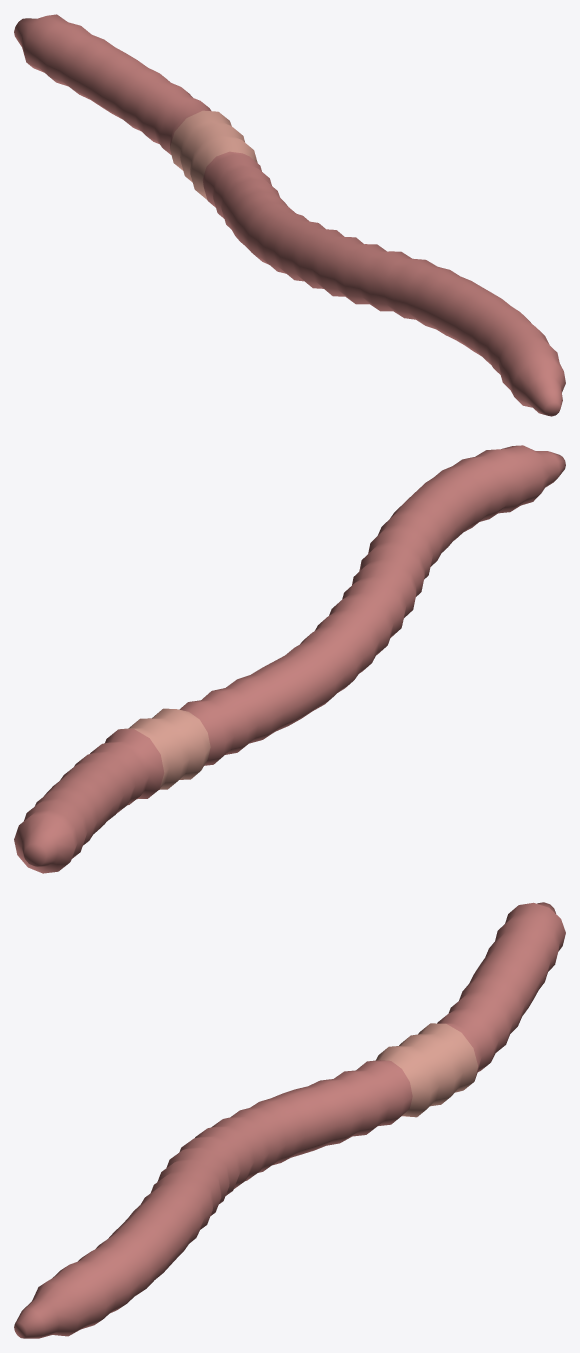
File: worm.fbx
The picture shows the model from 3 angles, top to bottom: view 1: azimuth 30°, elevation 25°; view 2: azimuth 150°, elevation 25°; view 3: azimuth 330°, elevation 25°; orthographic projection. The views are drawn at different scales.
Parts seen in each view (by area): view 1: worm; view 2: worm; view 3: worm.
Part boxes in pixels (bbox=[...]): worm: bbox=[14, 14, 565, 416]; worm: bbox=[14, 445, 565, 873]; worm: bbox=[14, 902, 565, 1338].
Size of the model in its own units: 0.8506 by 0.7016 by 7.24.
